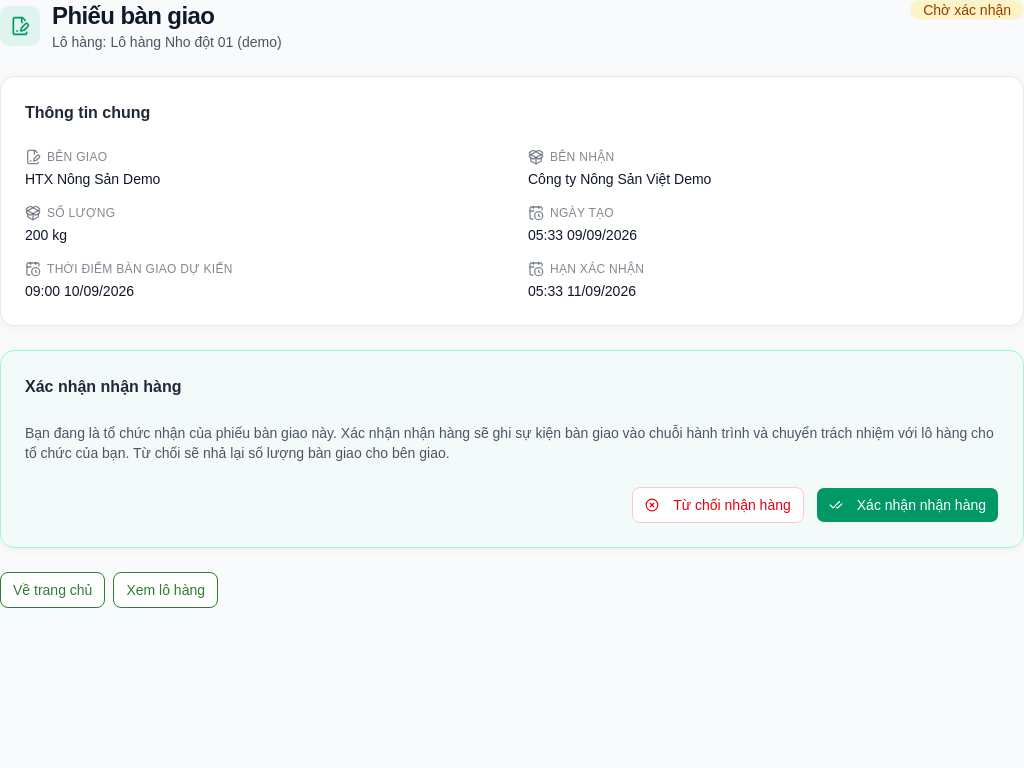
Test: NCL-05-CN-009 - HandoverDetailPage Xác nhận/Từ chối › click Từ chối mở dialog, yêu cầu lý do, gọi rejectHandover
This screenshot has width=1024, height=768.
Click the button "Từ chối nhận hàng": (718, 505) [632,487,804,523]
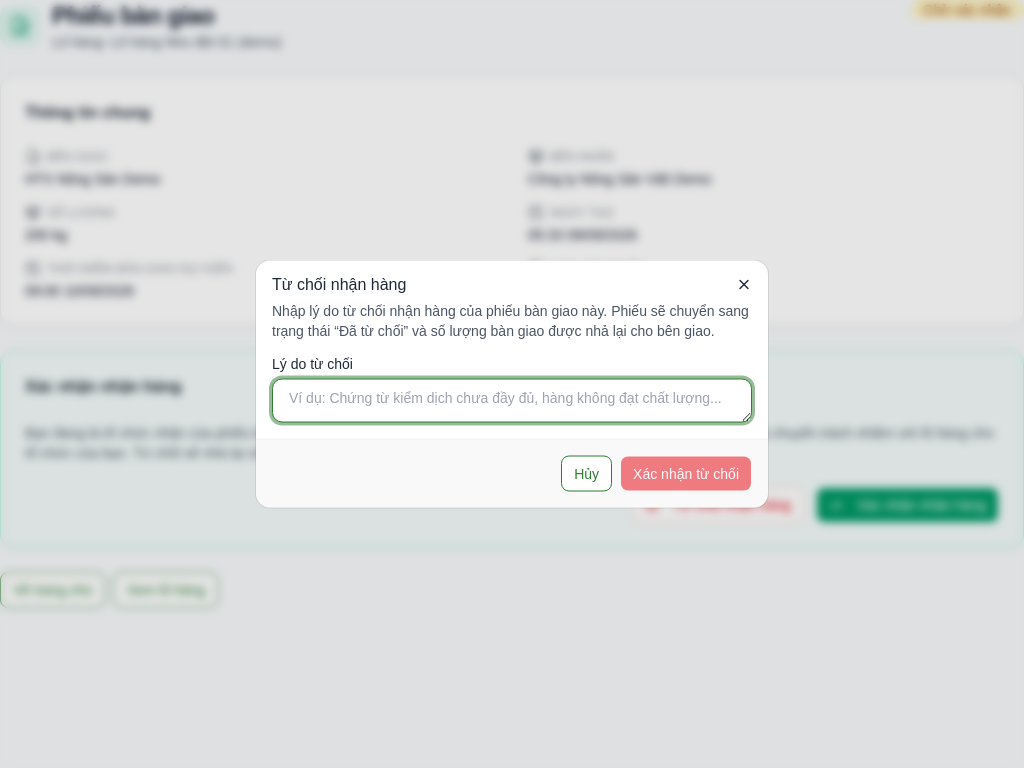
Now the text box labelled "Lý do từ chối" is shown
Now the button "Xác nhận từ chối" is disabled, box [620,456,752,492]
In the text box labelled "Lý do từ chối": (512, 400) [272,378,752,422], type "Chứng từ kiểm dịch chưa đầy đủ"
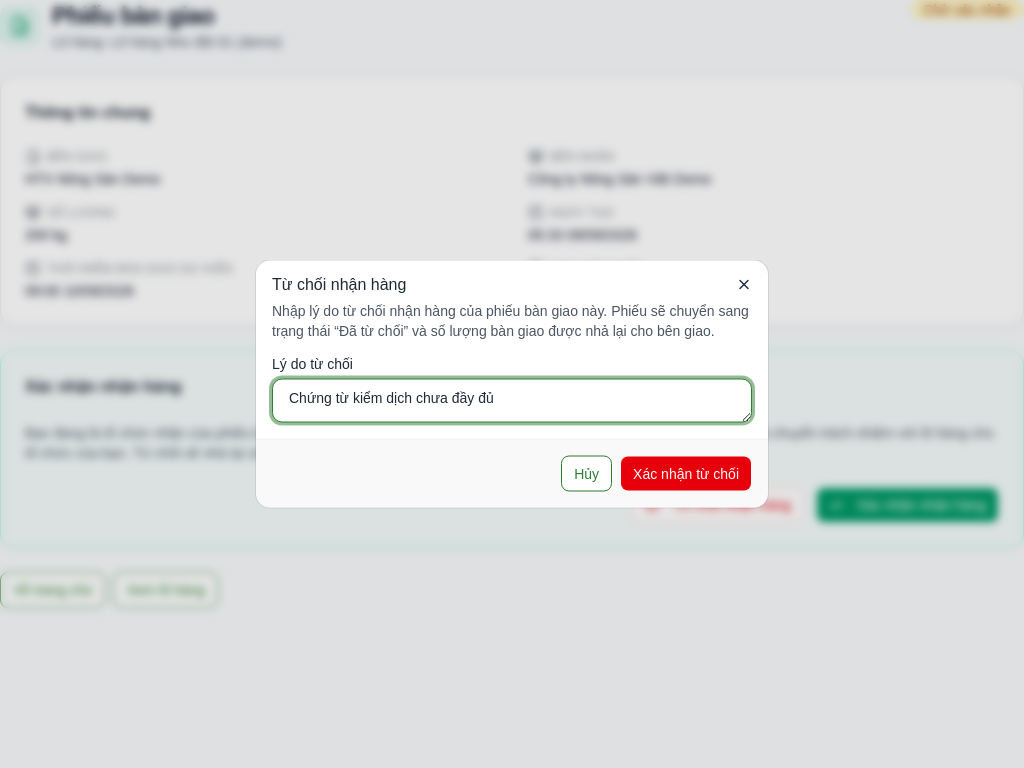
Click the button "Xác nhận từ chối": (686, 474) [620,456,752,492]
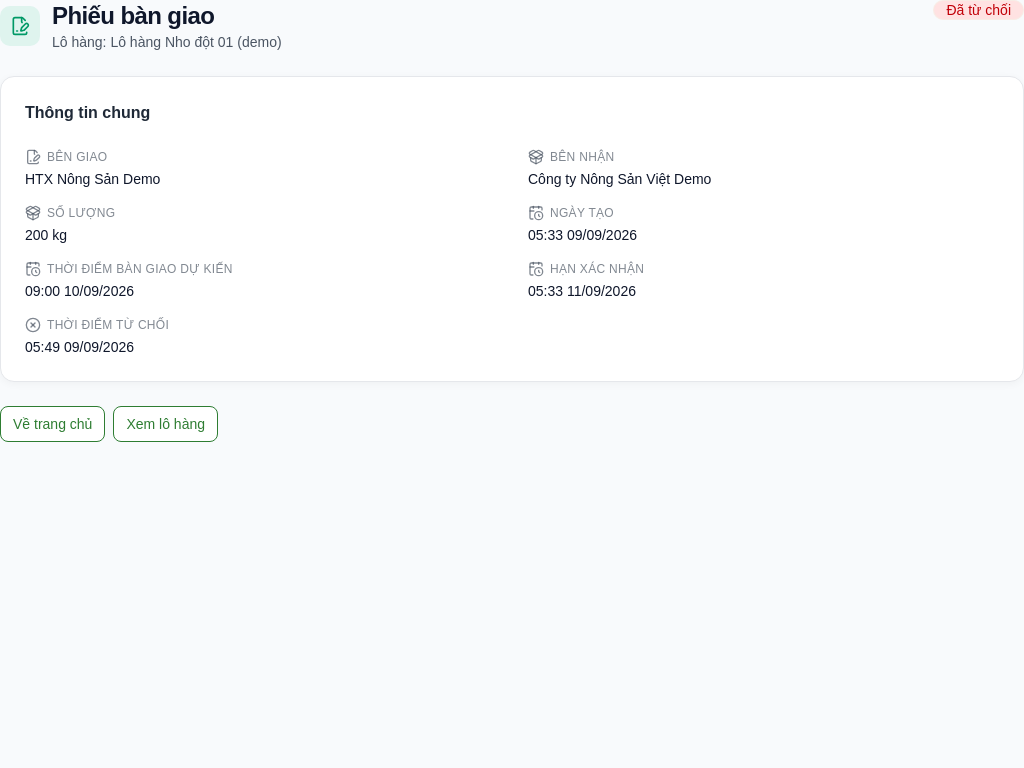
Now the text "Đã từ chối" is shown, box [933,0,1023,20]
